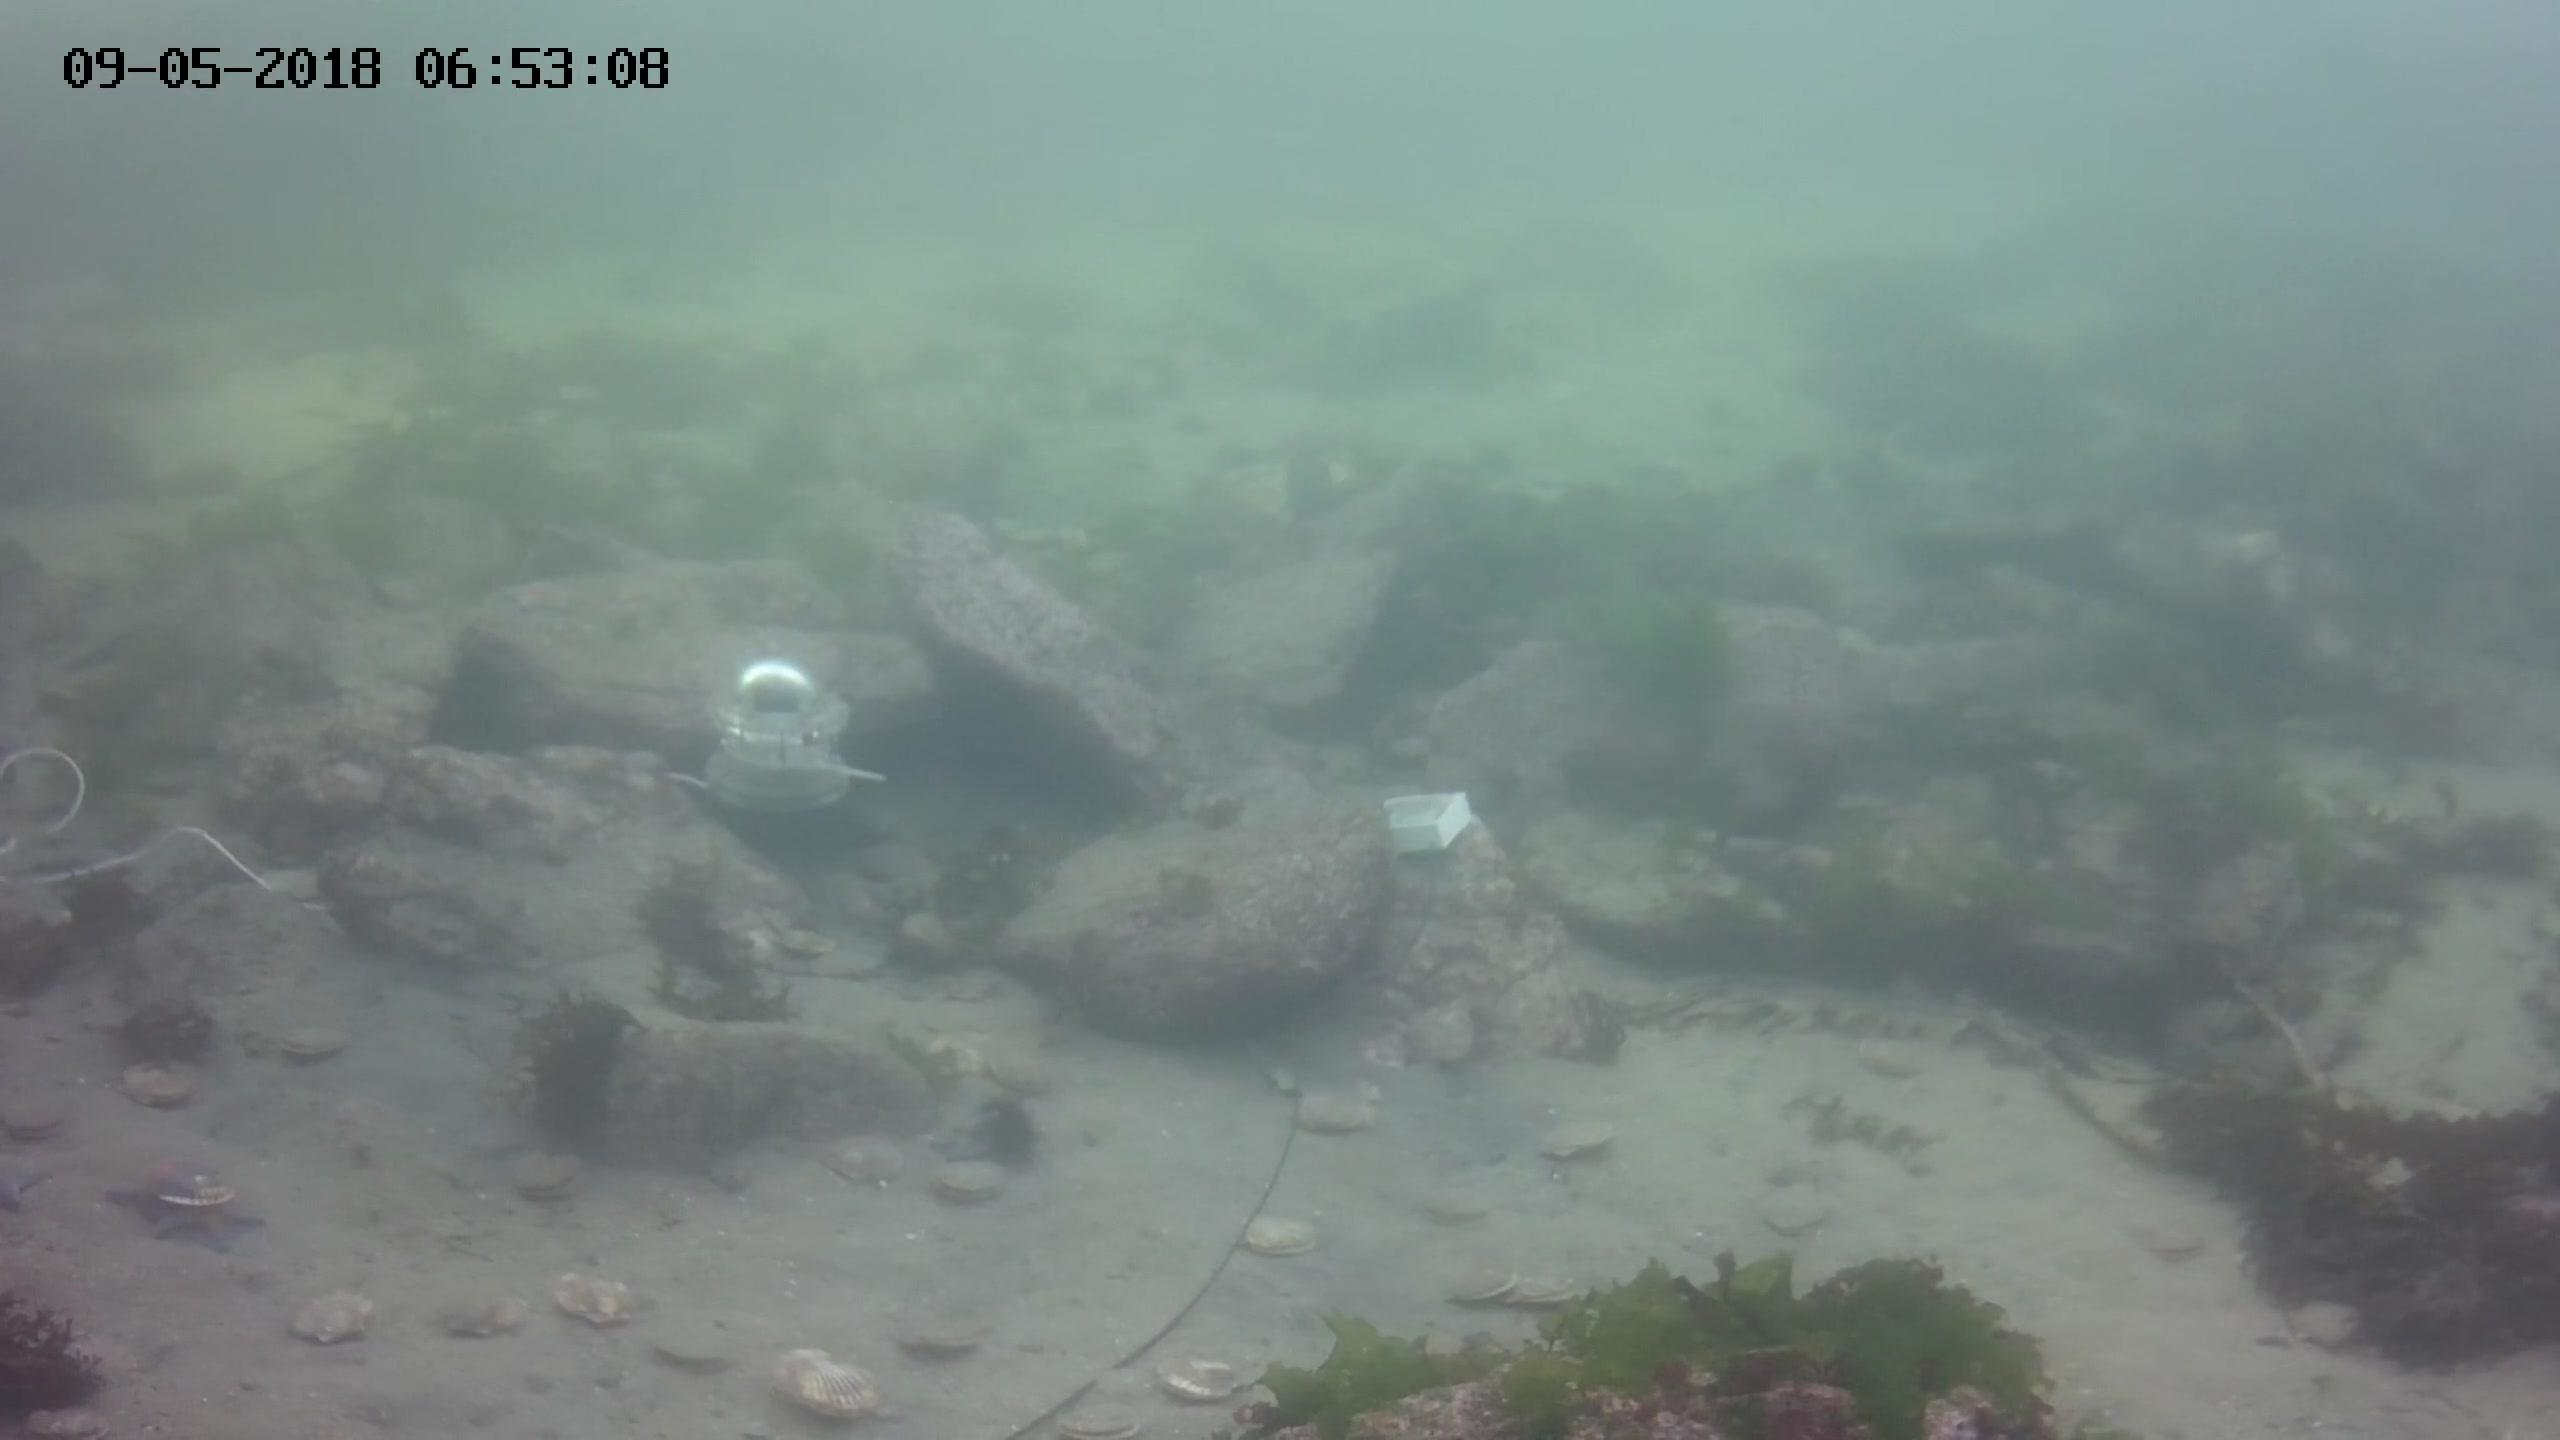echinus: (972, 1097, 1055, 1166)
scallop: (774, 1352, 886, 1428), (285, 1282, 373, 1347), (1159, 1352, 1259, 1398), (547, 1276, 642, 1324), (825, 1129, 913, 1180), (424, 1294, 527, 1336), (900, 1308, 990, 1356), (986, 1051, 1074, 1097), (1053, 1398, 1148, 1440), (515, 1150, 587, 1203), (1489, 1271, 1589, 1308), (1408, 1006, 1477, 1057), (658, 1324, 733, 1368), (1299, 1088, 1391, 1124), (111, 1065, 193, 1104), (1238, 1210, 1306, 1255), (928, 1166, 1006, 1204), (1540, 1129, 1618, 1166), (1419, 1180, 1486, 1218), (276, 1025, 338, 1062), (1435, 1269, 1505, 1299), (164, 1180, 239, 1203)
starfish: (121, 1159, 209, 1220), (148, 1211, 246, 1248)
